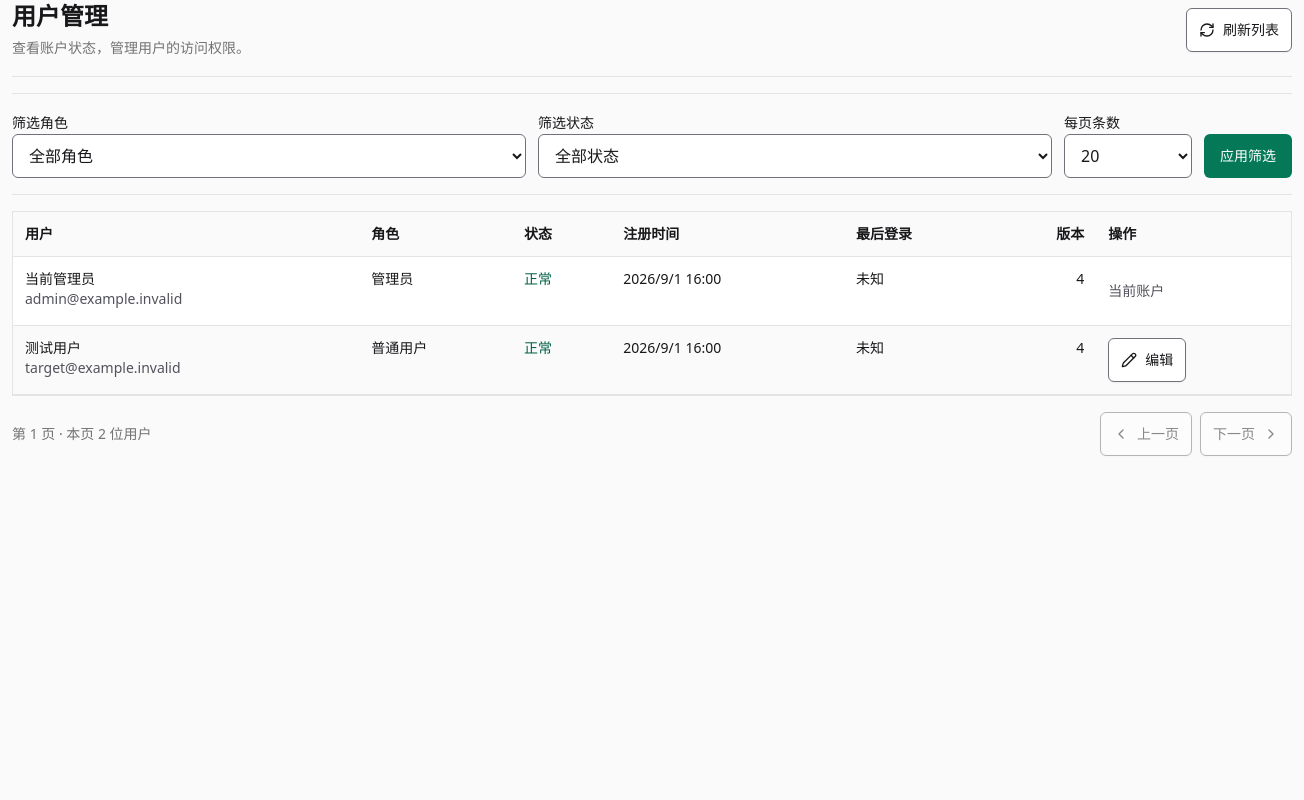
admin/users client › shows the latest safe 409 summary and requires a newly selected operation and key
Expected: the text "第 1 页 · 本页 2 位用户" is shown, [12,424,152,444]
Click the button "编辑": (1147, 360) [1108,338,1186,382]
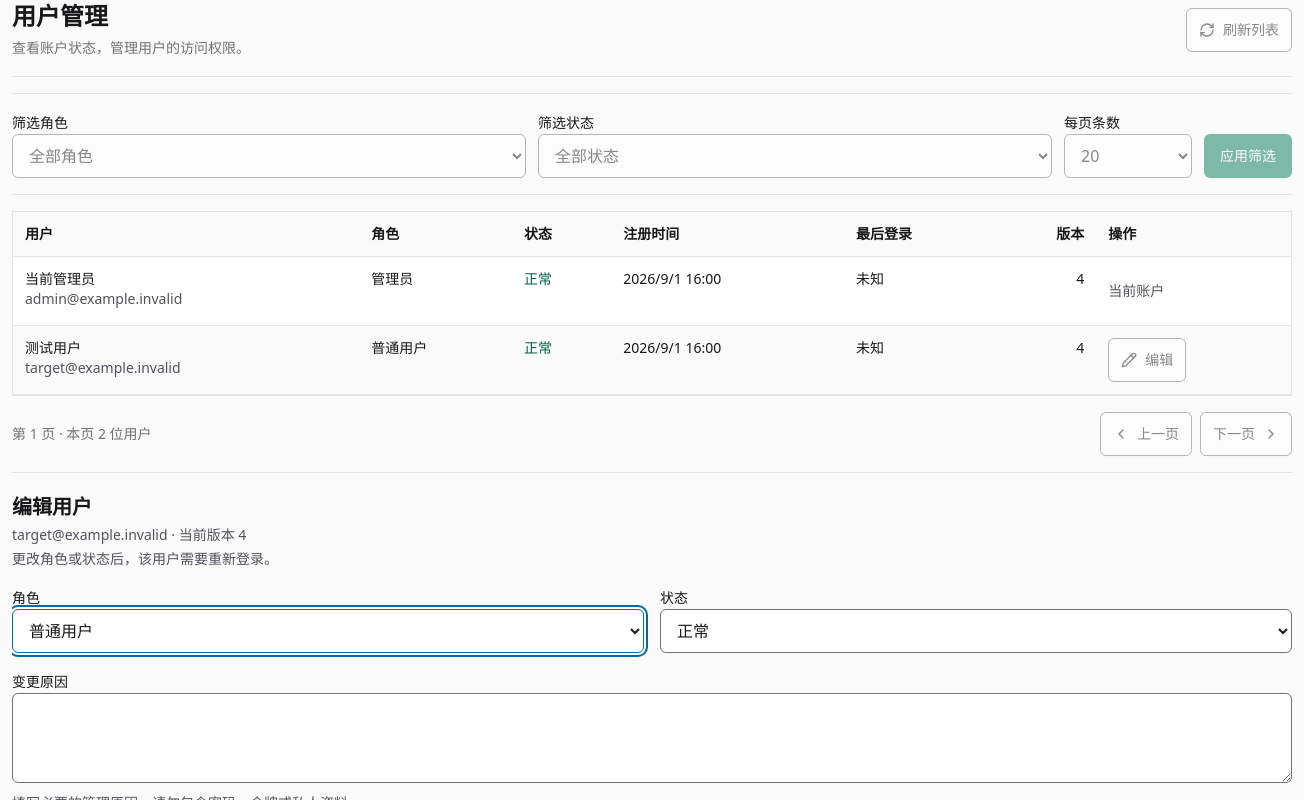
Select "已禁用" in the dropdown labelled "状态": (976, 631) [660,609,1292,653]
In the text box labelled "变更原因": (652, 738) [12,693,1292,783], type "第一次选择"
(page scrolled)
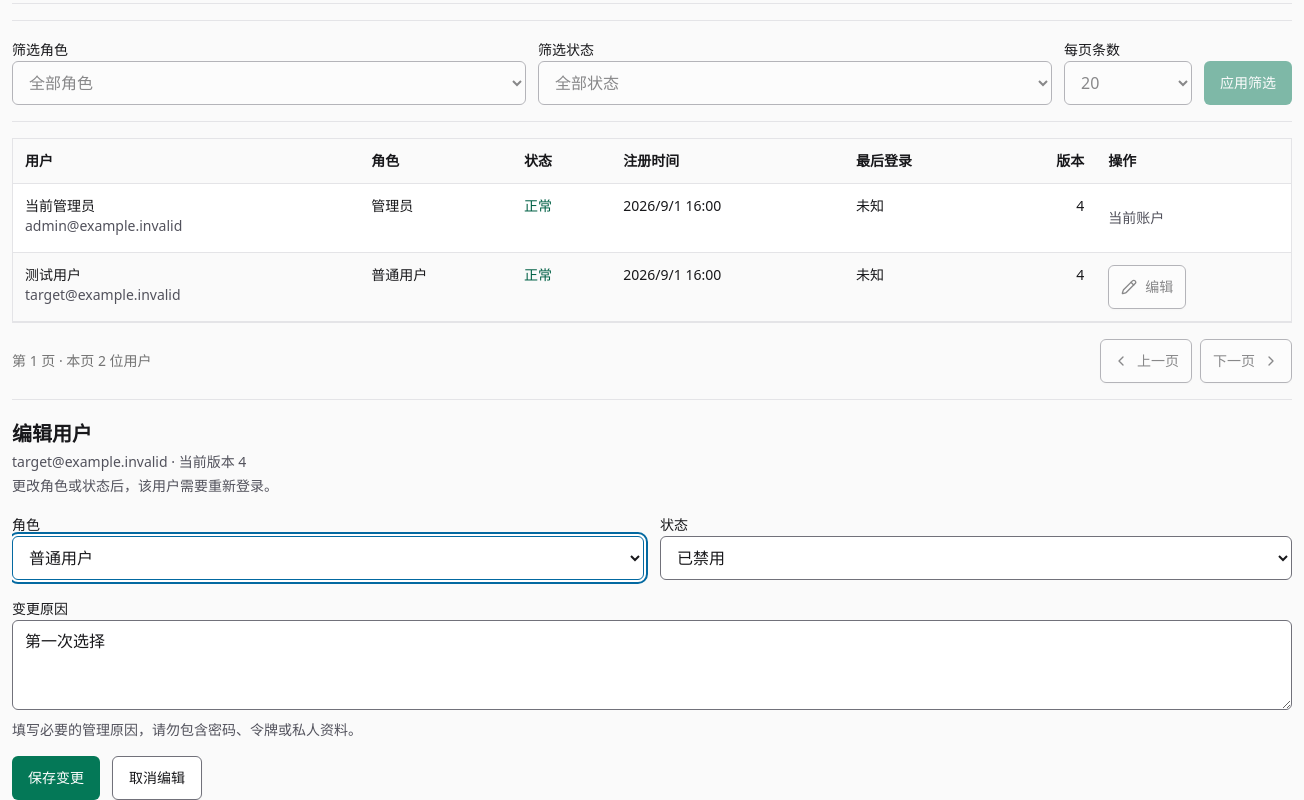
Submit the form "编辑用户", box [12,399,1292,799]
(page scrolled)
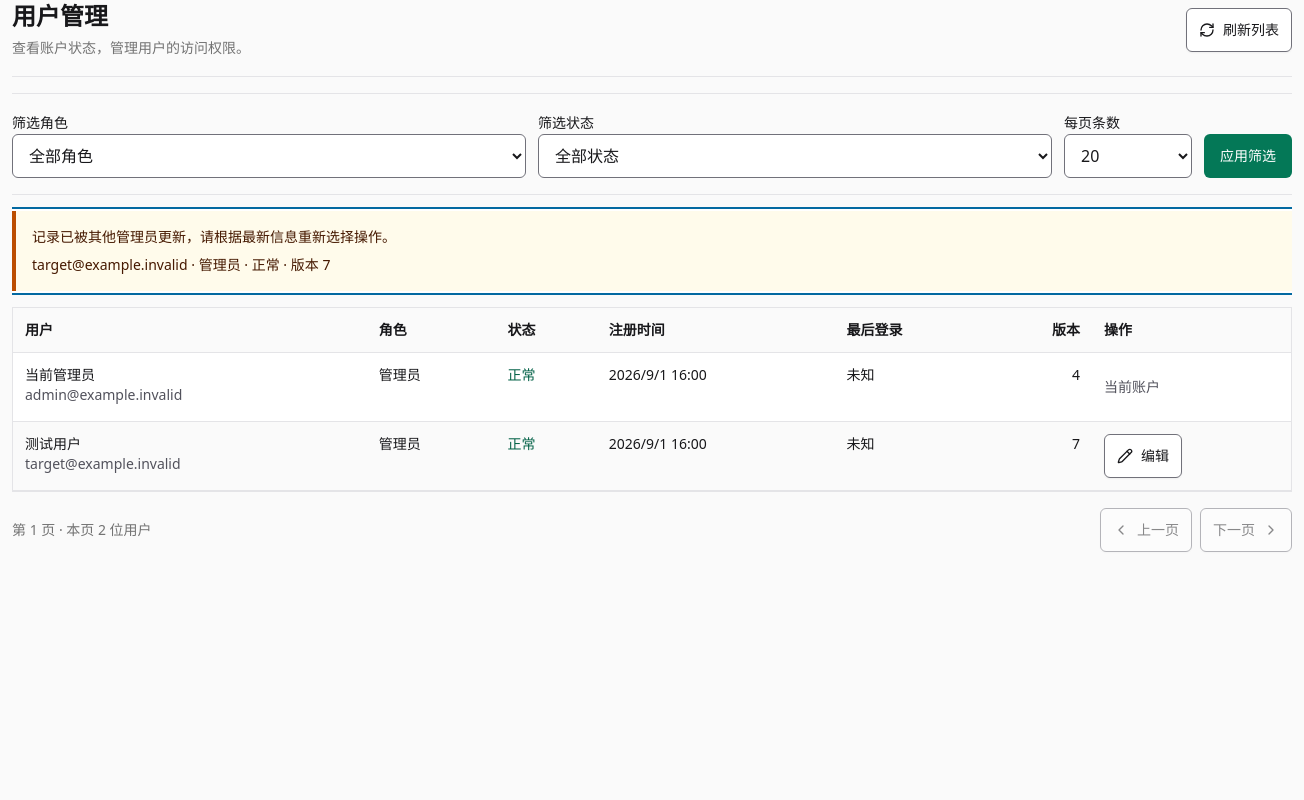
Expected: the message shows "请根据最新信息重新选择操作", [32,227,396,246]
Expected: the message shows "管理员 · 正常 · 版本 7", [12,211,1292,291]
Expected: the heading "编辑用户" is gone
Click the button "编辑": (1143, 456) [1104,434,1182,478]
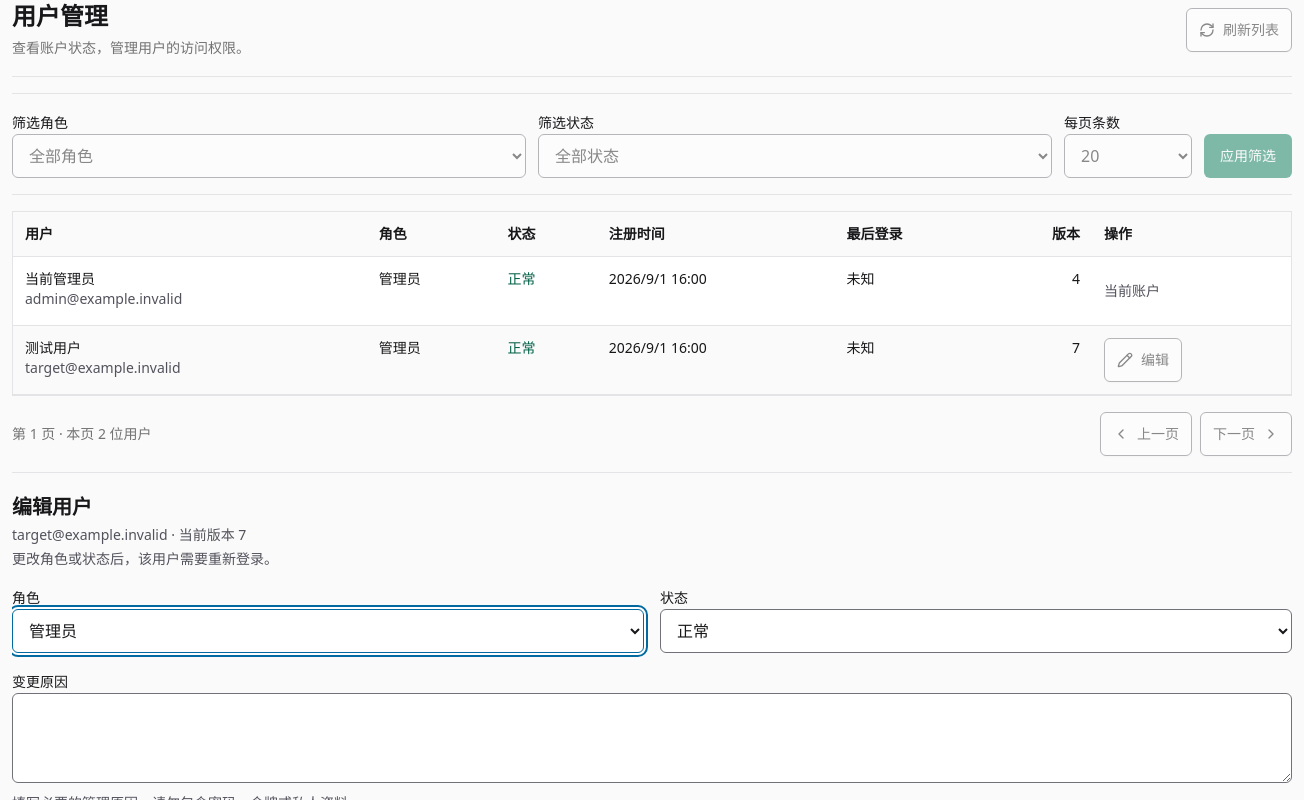
Expected: the text box labelled "变更原因" is empty, [12,693,1292,783]
Expected: the dropdown labelled "角色" shows "管理员", [12,609,644,653]
Expected: the dropdown labelled "状态" shows "正常"
Select "已禁用" in the dropdown labelled "状态": (976, 631) [660,609,1292,653]
In the text box labelled "变更原因": (652, 738) [12,693,1292,783], type "确认新版本后停用"
(page scrolled)
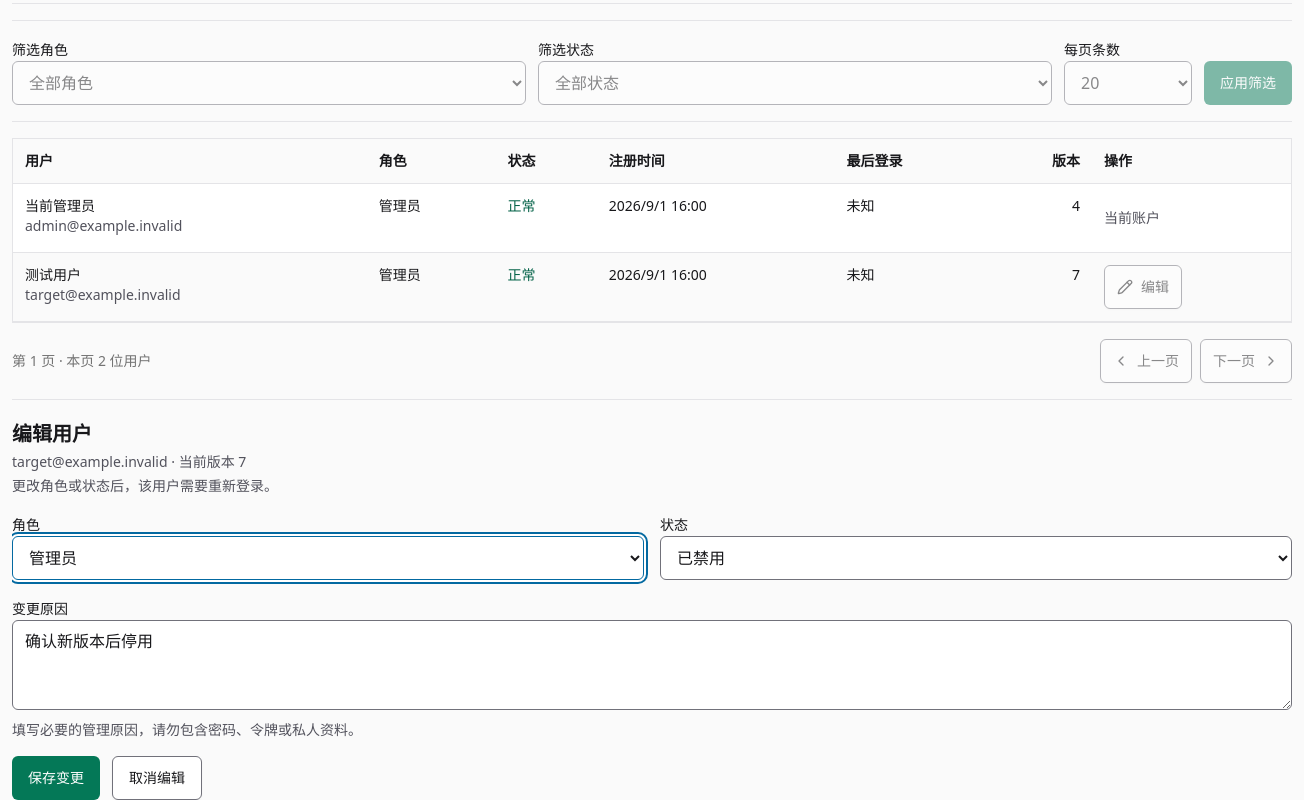
Submit the form "编辑用户", box [12,399,1292,799]
(page scrolled)
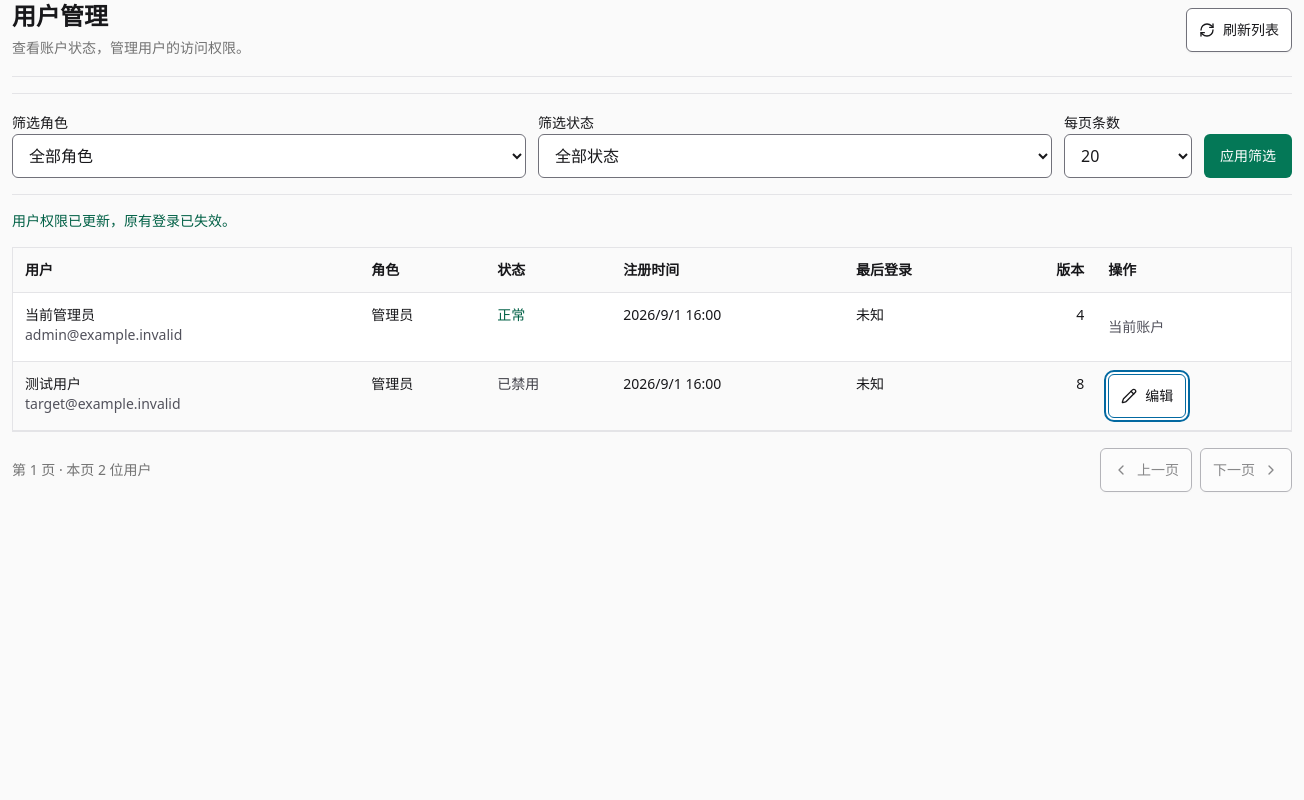
Expected: the text "用户权限已更新，原有登录已失效。" is shown, [12,211,236,230]
